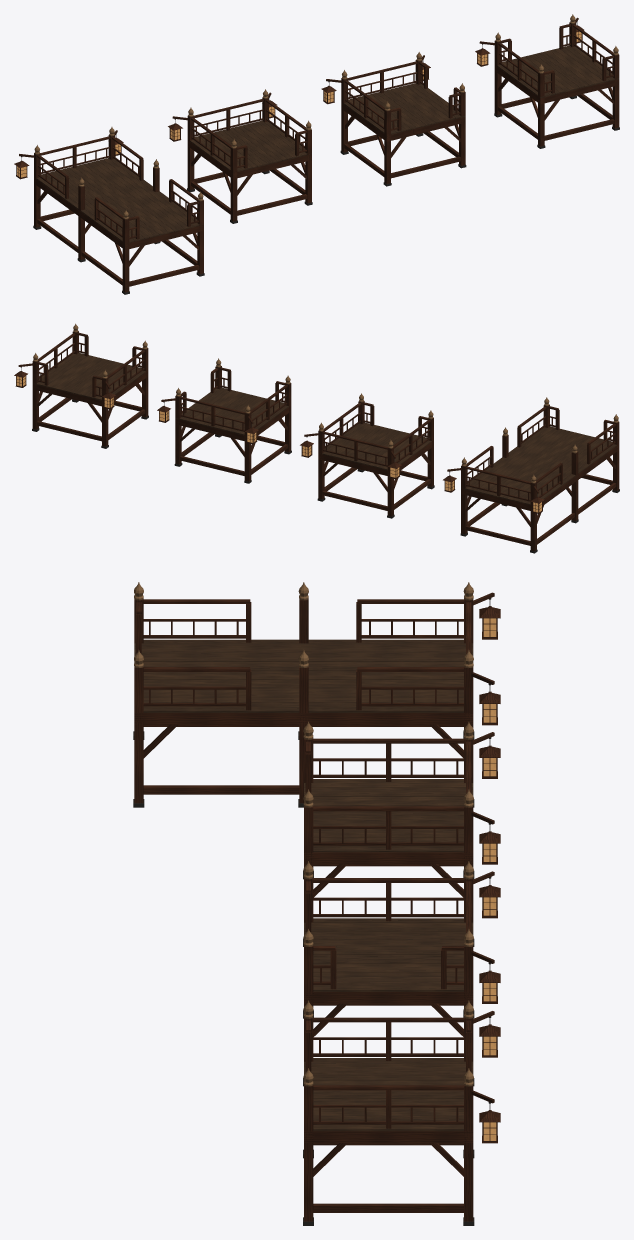
The model's file is balcony_platforms.glb.
3 renders of one model, top to bottom at view 1: azimuth 30°, elevation 25°; view 2: azimuth 150°, elevation 25°; view 3: azimuth 270°, elevation 25°, orthographic. The views are drawn at different scales.
Visible parts, largest first — view 1: IC08_Balcony_Rect__Mesh, IC08_Balcony_Square__Mesh, IC08_Balcony_Square_Corner__Mesh, IC08_Balcony_Square_Through__Mesh; view 2: IC08_Balcony_Rect__Mesh, IC08_Balcony_Square_Through__Mesh, IC08_Balcony_Square__Mesh, IC08_Balcony_Square_Corner__Mesh; view 3: IC08_Balcony_Rect__Mesh, IC08_Balcony_Square_Through__Mesh, IC08_Balcony_Square__Mesh, IC08_Balcony_Square_Corner__Mesh.
Boxes of the visible parts, <box> form: IC08_Balcony_Rect__Mesh: <box>19,127,204,294</box>; IC08_Balcony_Square__Mesh: <box>172,89,312,223</box>; IC08_Balcony_Square_Corner__Mesh: <box>326,52,466,186</box>; IC08_Balcony_Square_Through__Mesh: <box>479,14,619,148</box>; IC08_Balcony_Rect__Mesh: <box>447,397,619,553</box>; IC08_Balcony_Square_Through__Mesh: <box>18,323,148,448</box>; IC08_Balcony_Square__Mesh: <box>304,393,434,518</box>; IC08_Balcony_Square_Corner__Mesh: <box>161,358,291,483</box>; IC08_Balcony_Rect__Mesh: <box>133,582,494,807</box>; IC08_Balcony_Square_Through__Mesh: <box>303,1000,494,1225</box>; IC08_Balcony_Square__Mesh: <box>303,721,494,946</box>; IC08_Balcony_Square_Corner__Mesh: <box>303,861,494,1086</box>.
Bounding box in the file's own units: 28.62 × 4.04 × 8.66.
5 materials, 3 textured.
